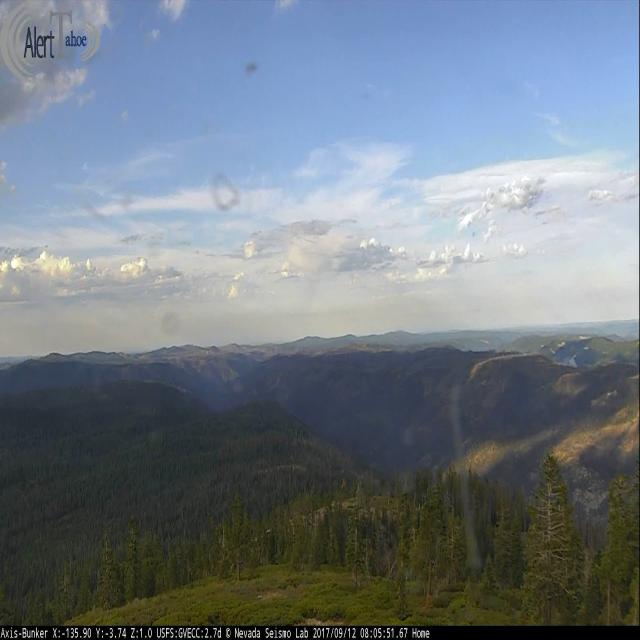smoke: (553, 350, 578, 369)
